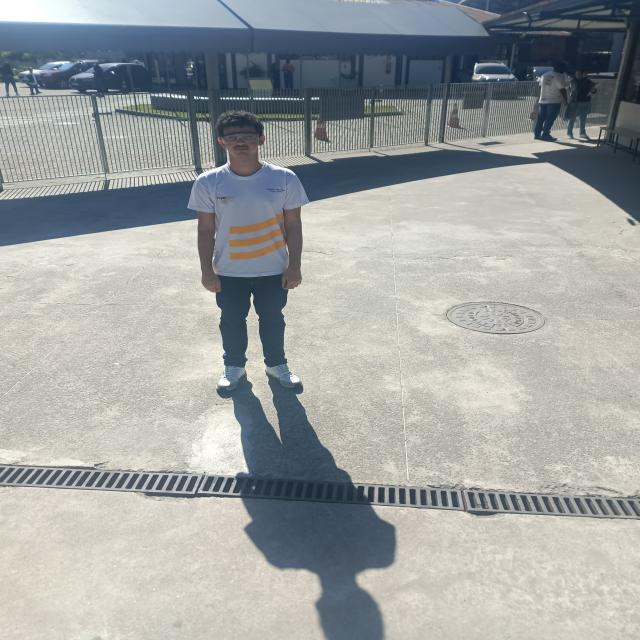oculos-epi: (221, 133, 261, 144)
